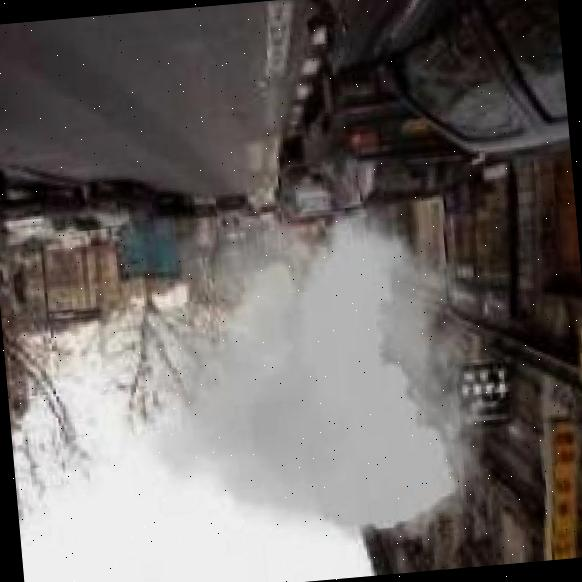smoke: (79, 170, 533, 579)
